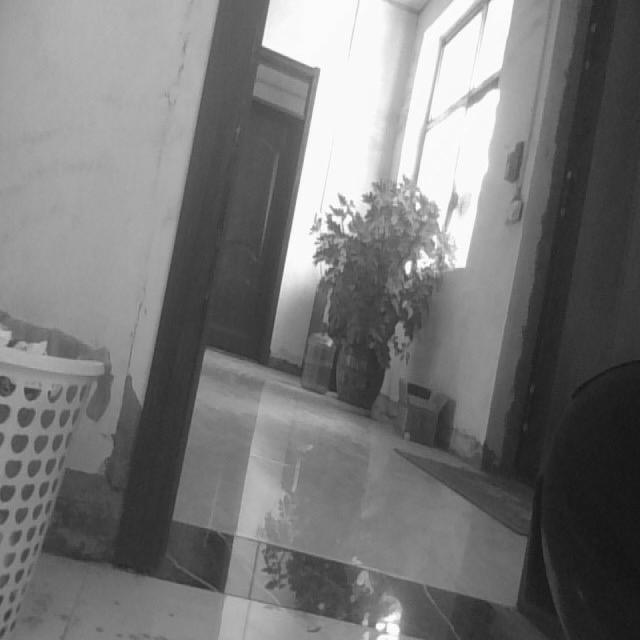ping-pong-ball: (404, 432, 410, 440)
